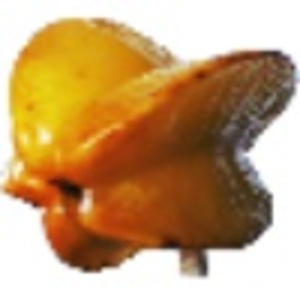carambola: (1, 15, 300, 280)
